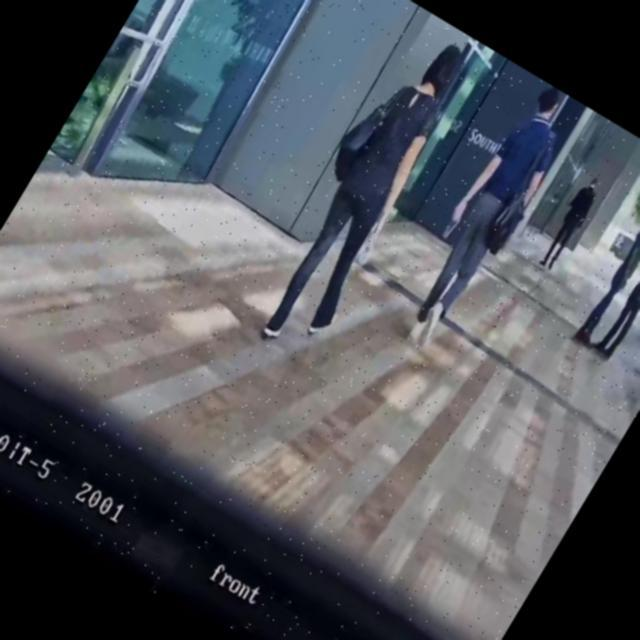person: (239, 22, 488, 364), (388, 76, 588, 352), (573, 203, 640, 350), (532, 172, 606, 276), (591, 217, 640, 365)
